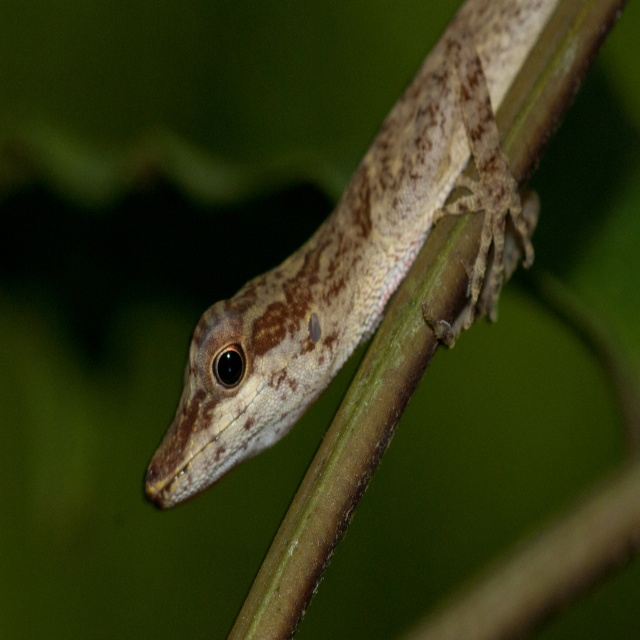Lizard: (147, 82, 582, 579)
